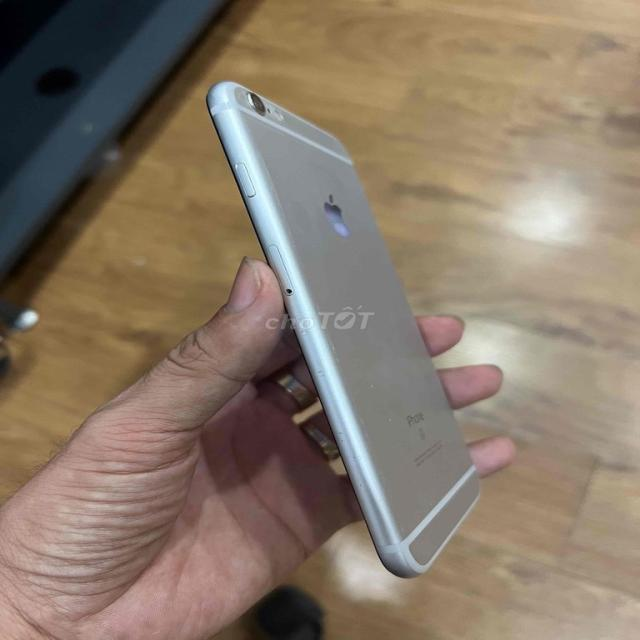scratch: (304, 306, 356, 380), (338, 430, 381, 502), (366, 380, 418, 436)
